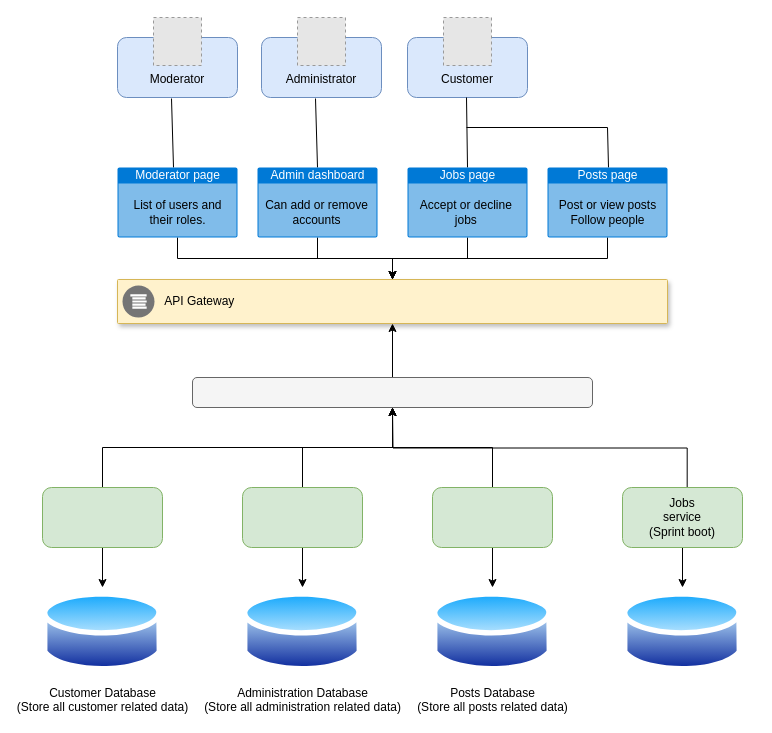
Some shapes in this 772 by 733 pixel diagram are drawn without their labels. Grey dashed boxes stand in for pictures. Here are the shapes that lost their labels. From the top down, the centre of each, then its label:
point 392,392: Messaging bus
point 102,517: Customer service (Spring boot)
point 302,517: Administration service (Spring boot)
point 492,517: Post service (Sprint boot)
point 682,631: Jobs Database (Store all jobs related data)
